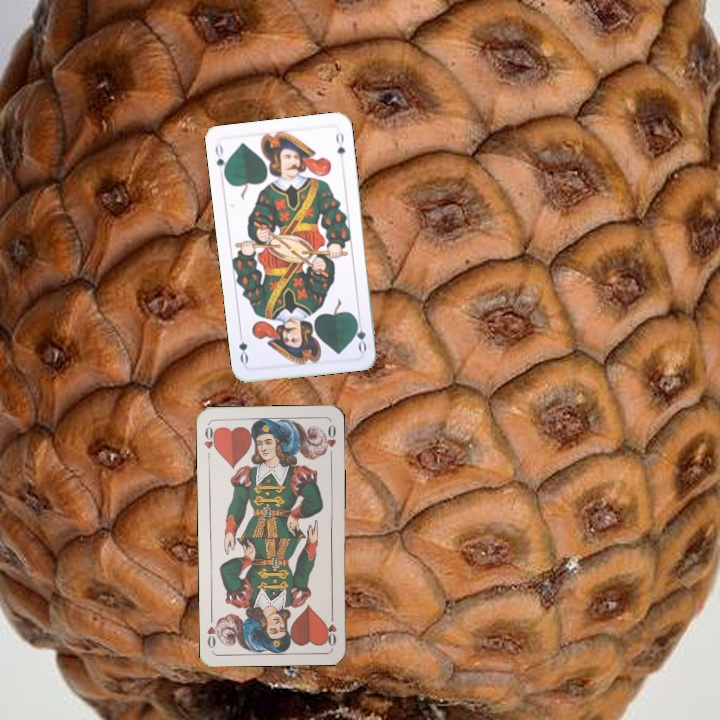GO: (211, 140, 230, 180), (351, 314, 369, 354)
HO: (200, 421, 219, 462), (323, 608, 339, 649)
